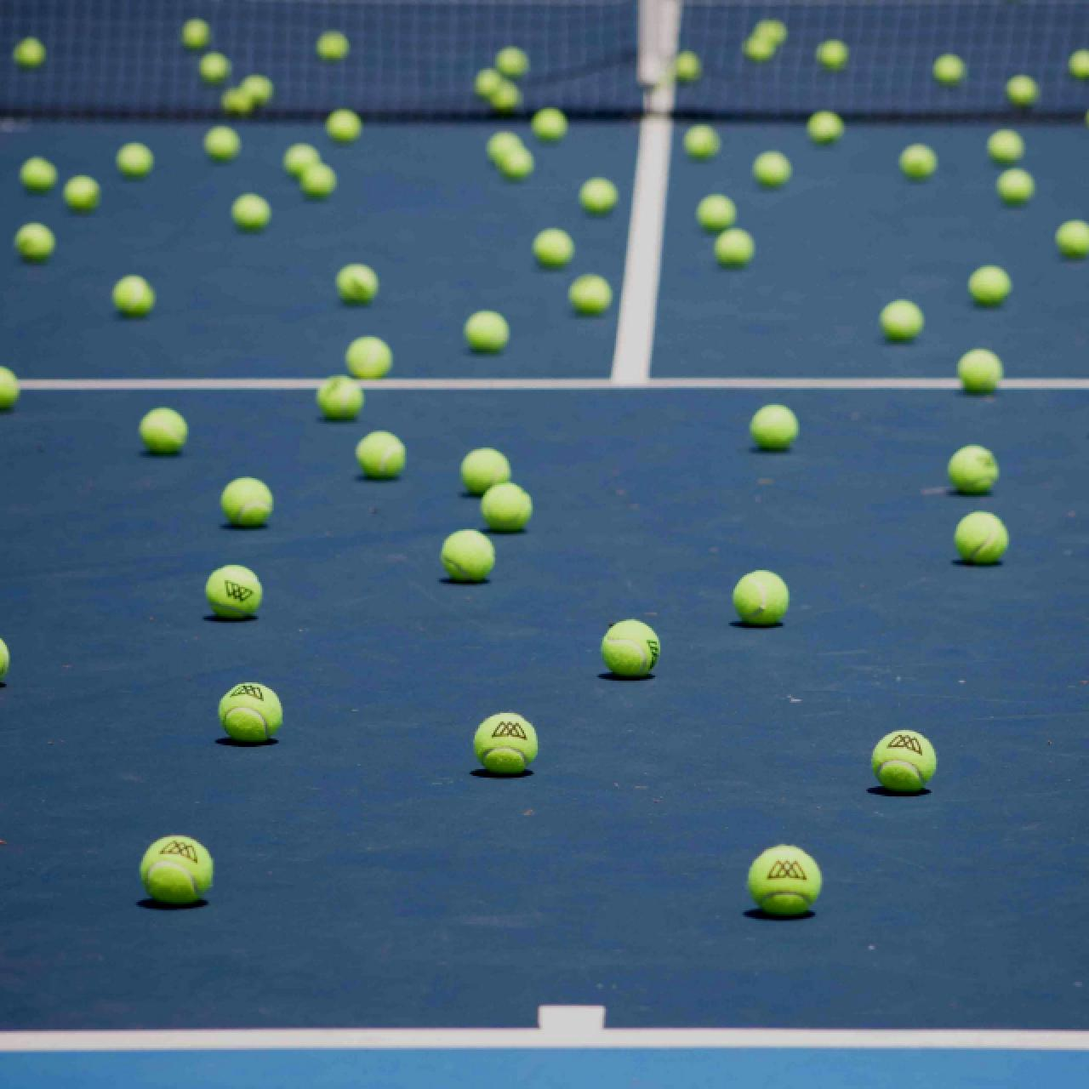tennis-ball: (140, 834, 214, 909), (749, 843, 821, 920), (870, 728, 937, 796), (473, 711, 539, 777), (218, 680, 285, 745), (599, 617, 663, 680), (732, 569, 789, 629), (204, 562, 263, 619), (952, 509, 1010, 566), (440, 528, 496, 584), (946, 443, 999, 496), (221, 475, 274, 528), (481, 481, 533, 532), (137, 406, 189, 457), (748, 402, 798, 453), (356, 429, 406, 480), (460, 446, 511, 495), (317, 375, 364, 422), (956, 347, 1004, 393), (878, 297, 926, 342), (345, 336, 393, 381), (463, 308, 510, 352), (111, 274, 157, 318), (967, 264, 1012, 307), (569, 272, 612, 316), (336, 262, 378, 304), (13, 223, 56, 264), (17, 155, 59, 196), (751, 149, 792, 190), (533, 227, 573, 269), (713, 228, 754, 268), (696, 192, 736, 233), (230, 192, 271, 232), (578, 176, 619, 216), (62, 174, 101, 214), (681, 123, 721, 161), (900, 143, 938, 182), (806, 109, 845, 147), (299, 162, 338, 199), (115, 141, 154, 178), (997, 168, 1034, 206), (985, 129, 1024, 165), (202, 126, 241, 162), (1053, 220, 1089, 258), (284, 142, 321, 178), (815, 37, 852, 73), (325, 109, 361, 146), (12, 35, 47, 71), (532, 107, 568, 142), (197, 51, 232, 86), (489, 79, 524, 114), (487, 131, 523, 165), (497, 147, 534, 180), (1004, 73, 1039, 107), (932, 52, 967, 85), (668, 50, 701, 85), (495, 46, 531, 78), (221, 86, 256, 118), (743, 31, 777, 63), (239, 73, 274, 104), (316, 30, 349, 62), (179, 17, 212, 49), (754, 18, 788, 49), (472, 67, 506, 98), (0, 364, 20, 412), (0, 631, 12, 686), (1068, 48, 1089, 77), (1082, 106, 1089, 132)
